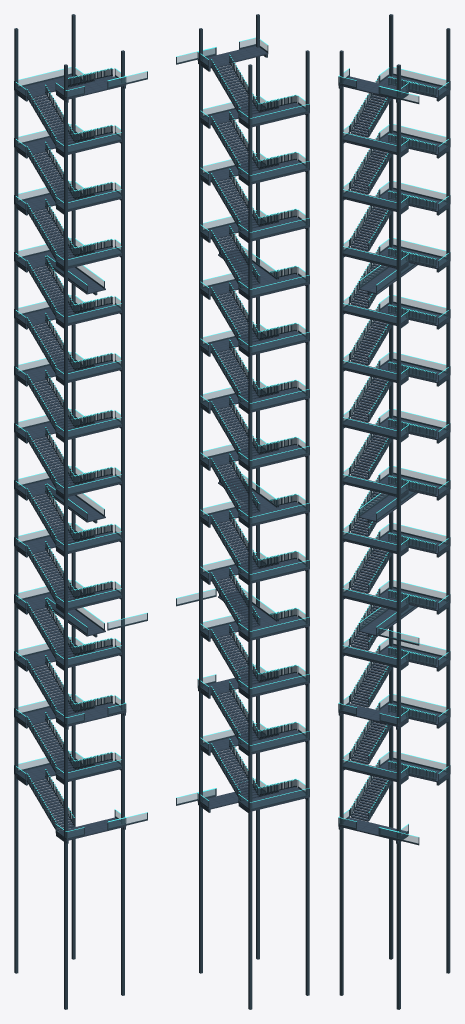
File: loggia-public-stair.glb
The picture shows the model from 3 angles, left to right: view 1: azimuth 30°, elevation 25°; view 2: azimuth 210°, elevation 25°; view 3: azimuth 330°, elevation 25°; orthographic projection.
Visible parts, largest first — view 1: loggia-public-stair; view 2: loggia-public-stair; view 3: loggia-public-stair.
Part boxes in pixels (x1,y1,x2,y2): loggia-public-stair: (14, 14, 147, 1009); loggia-public-stair: (176, 14, 309, 1009); loggia-public-stair: (338, 14, 450, 1009).
Size of the model in its own units: 11.91 by 132 by 13.45.
Materials: 4 (1 with a texture image).
